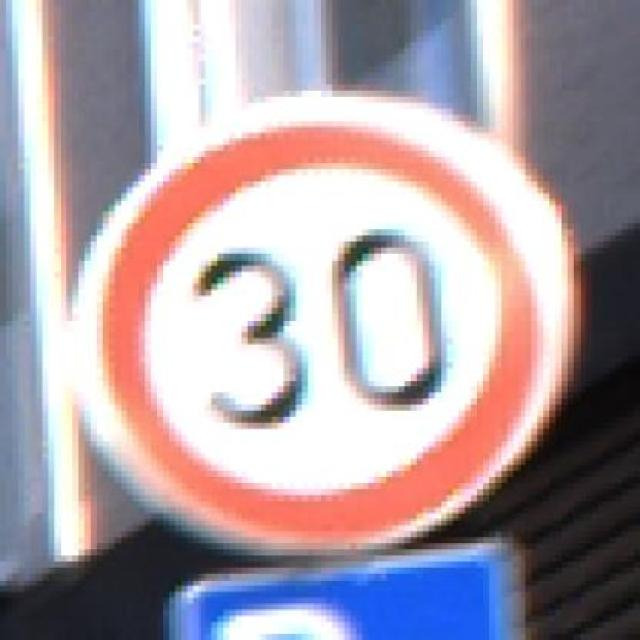Speed Limit 30 KMPh: (24, 78, 598, 556)
